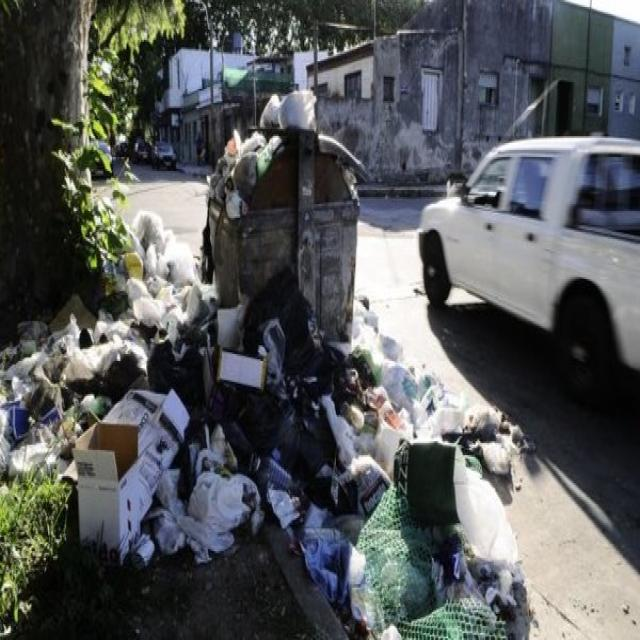garbage: (0, 291, 538, 640), (121, 199, 210, 290), (207, 122, 266, 201), (257, 82, 312, 138)
